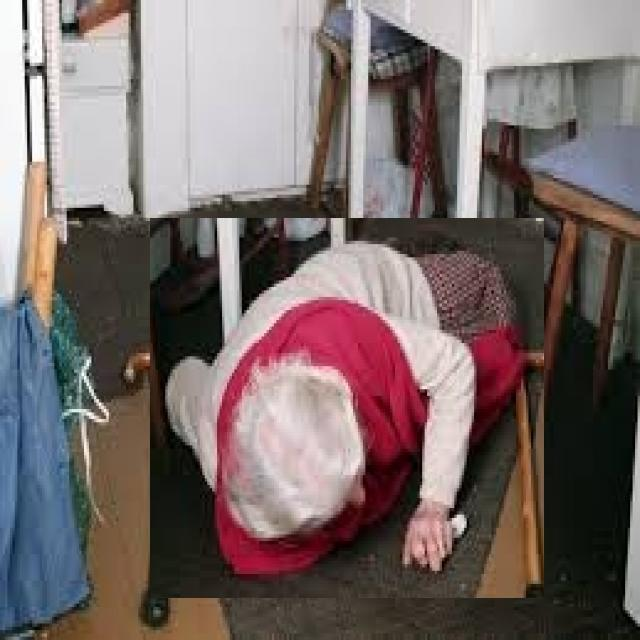Fall: (158, 229, 600, 640)
